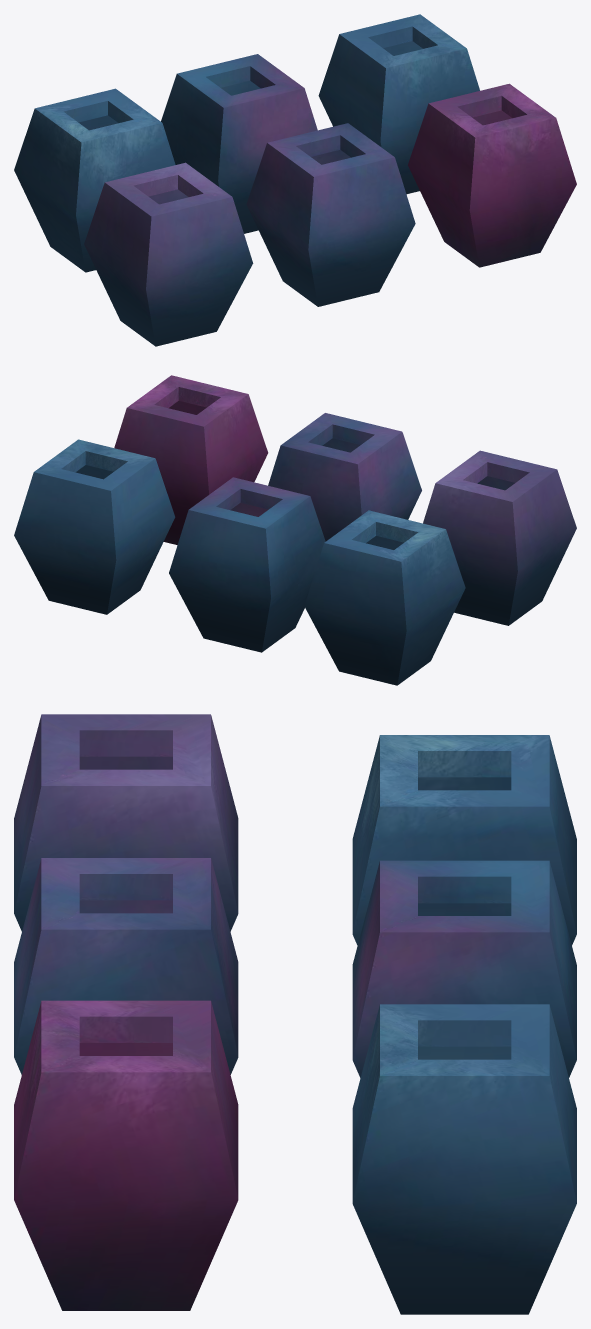
Rendered from plant_32.fbx.
3 renders of one model, top to bottom at view 1: azimuth 30°, elevation 25°; view 2: azimuth 150°, elevation 25°; view 3: azimuth 270°, elevation 25°, orthographic. The views are drawn at different scales.
Visible parts, largest first — view 1: pCube3, pCube2, pCube1, pCube4, pCube6, pCube5; view 2: pCube6, pCube4, pCube5, pCube1, pCube3, pCube2; view 3: pCube3, pCube6, pCube5, pCube1, pCube2, pCube4.
Boxes of the visible parts, x1,y1,x2,y2 form: pCube3: (408, 83, 576, 267); pCube2: (246, 123, 415, 306); pCube1: (84, 162, 253, 346); pCube4: (14, 88, 175, 272); pCube6: (318, 14, 479, 194); pCube5: (161, 54, 317, 233); pCube6: (14, 439, 175, 614); pCube4: (304, 510, 465, 685); pCube5: (169, 477, 325, 652); pCube1: (423, 450, 576, 625); pCube3: (114, 375, 268, 544); pCube2: (268, 413, 421, 541); pCube3: (14, 1000, 238, 1310); pCube6: (352, 1004, 576, 1314); pCube5: (352, 860, 576, 1077); pCube1: (14, 714, 238, 931); pCube2: (14, 858, 238, 1074); pCube4: (352, 735, 576, 945).
Bounding box in the file's own units: 4.06 × 1.22 × 2.51.
